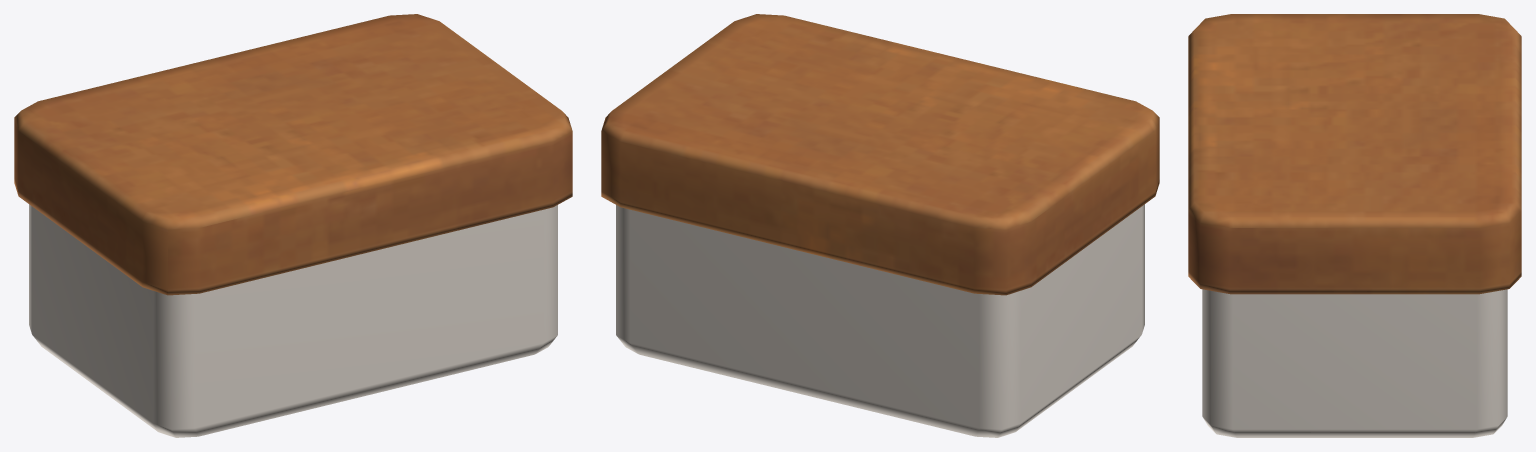
The model's file is pi_butter03.gltf.
The picture shows the model from 3 angles, left to right: view 1: azimuth 30°, elevation 25°; view 2: azimuth 150°, elevation 25°; view 3: azimuth 270°, elevation 25°; orthographic projection.
Visible parts, largest first — view 1: um_pi_butter03_model_pi_butter03_modelShape:pi_butter03_cup; view 2: um_pi_butter03_model_pi_butter03_modelShape:pi_butter03_cup; view 3: um_pi_butter03_model_pi_butter03_modelShape:pi_butter03_cup.
Part boxes in pixels (box(x1,y1,x2,y2)): um_pi_butter03_model_pi_butter03_modelShape:pi_butter03_cup: box(14, 14, 572, 437); um_pi_butter03_model_pi_butter03_modelShape:pi_butter03_cup: box(601, 14, 1159, 437); um_pi_butter03_model_pi_butter03_modelShape:pi_butter03_cup: box(1188, 14, 1521, 437).
Bounding box in the file's own units: 0.1401 × 0.0709 × 0.0944.
Materials: 2 (2 with a texture image).
